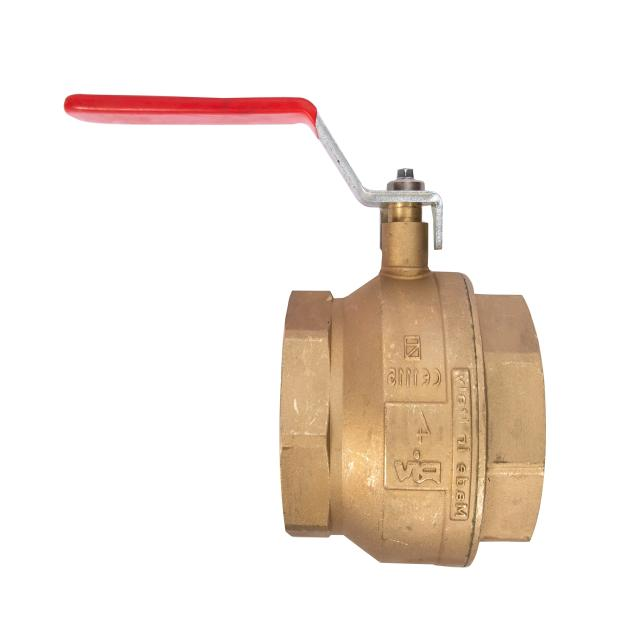Lever Handle Valve Threaded: (50, 64, 555, 271)
